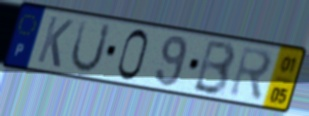0: (116, 28, 151, 82)
9: (152, 33, 189, 88)
B: (190, 38, 238, 97)
K: (34, 14, 76, 70)
R: (227, 44, 274, 104)
U: (68, 17, 114, 74)
